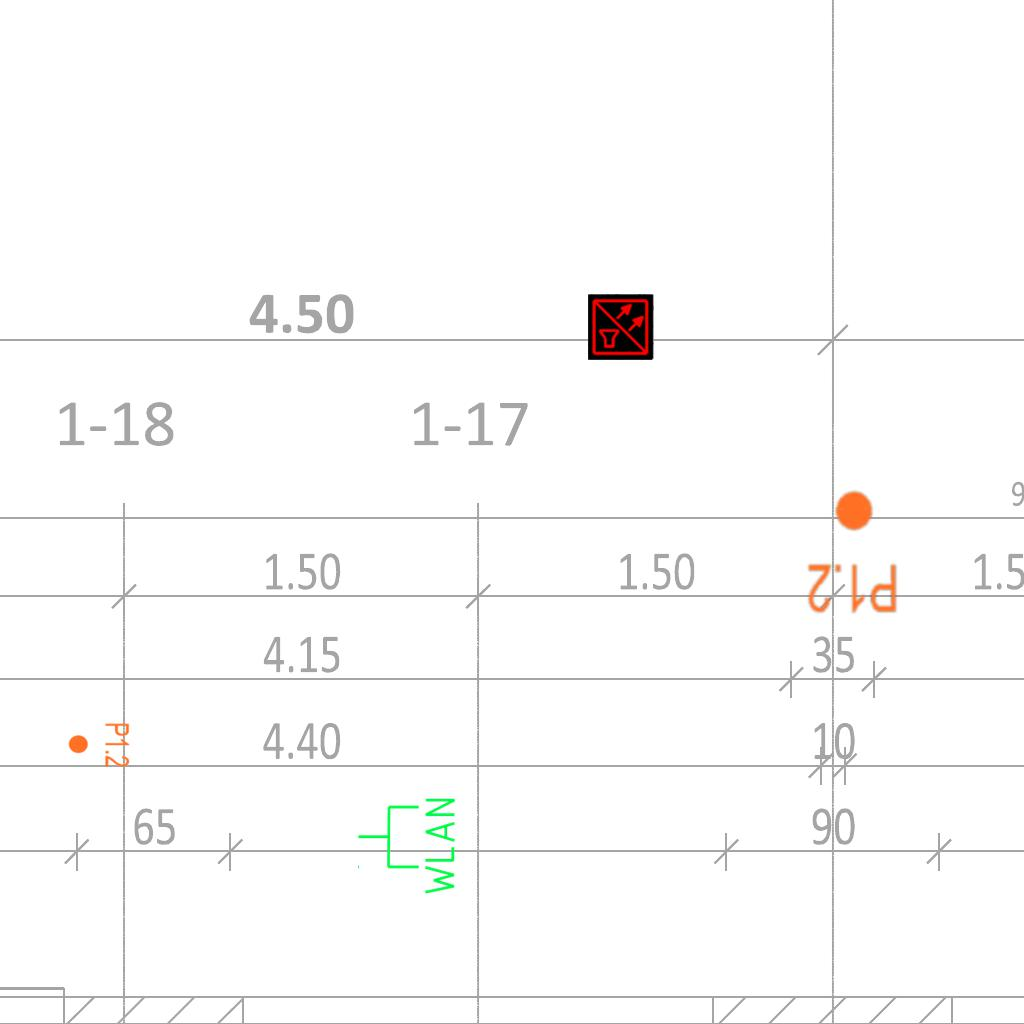Downlight_LED_Einbauleuchten_Flur: (806, 488, 899, 616), (67, 722, 131, 768)
OKW_Multisensormelder_(Kombination_optischer_Rauch-Kahlenmonoxid_Waerme-Melder): (588, 294, 654, 360)
WLAN: (355, 794, 459, 899)
